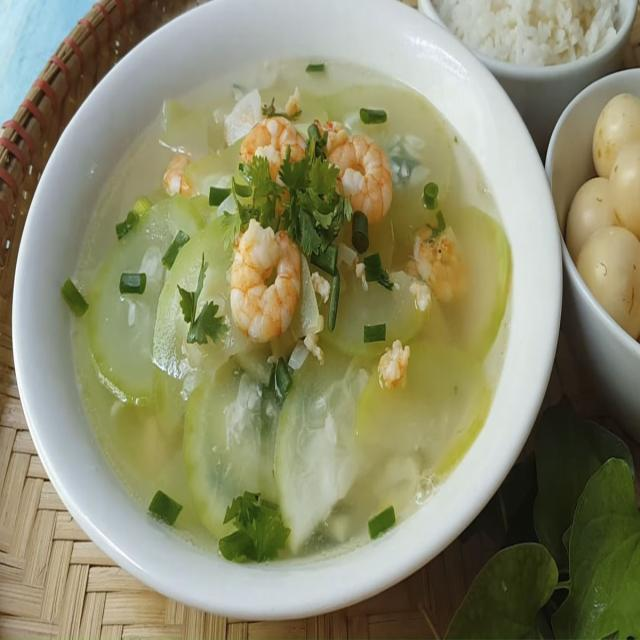canh bau: (72, 59, 514, 562)
rau ngo: (232, 119, 344, 274)
